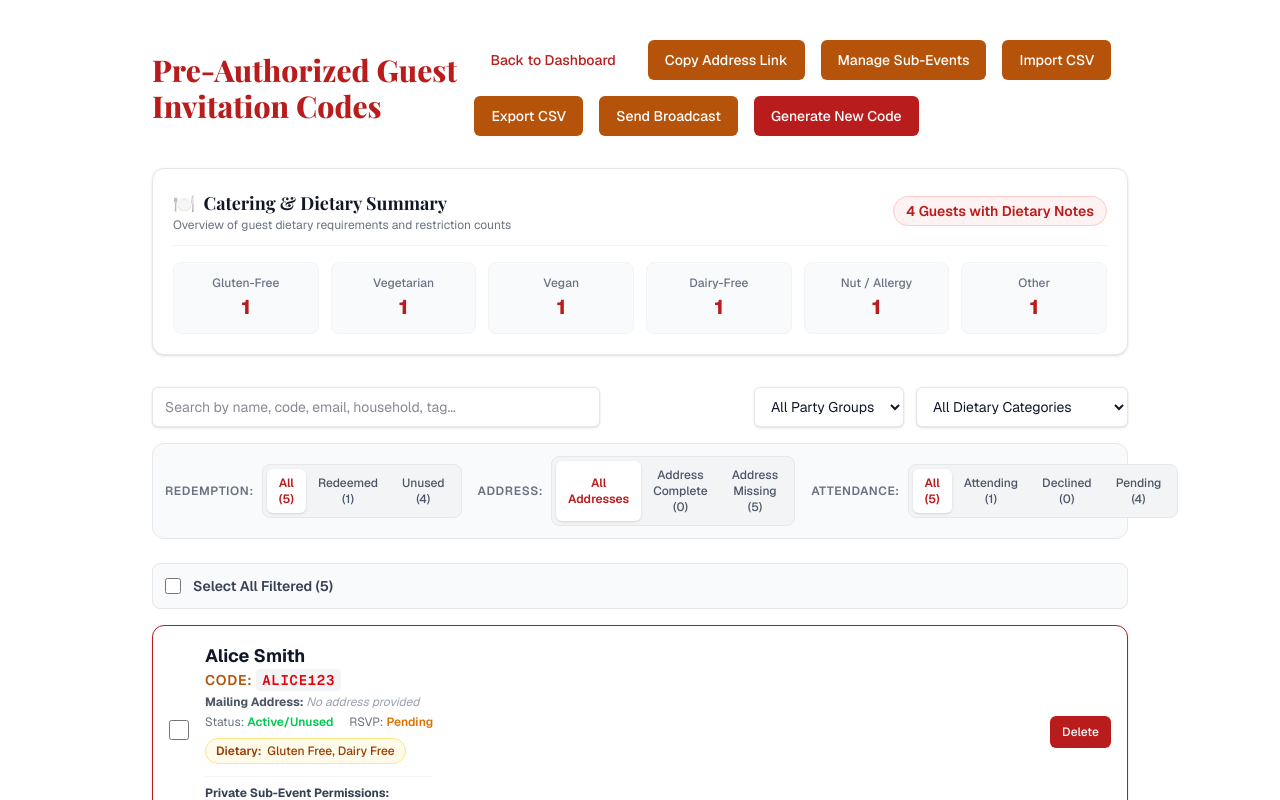
Test case: InvitationCodesDashboardPage › combines text search and status filter tab
// Switch to Unused tab
Click the tab "Unused (4)" at (423, 491), box [390,469,457,513]
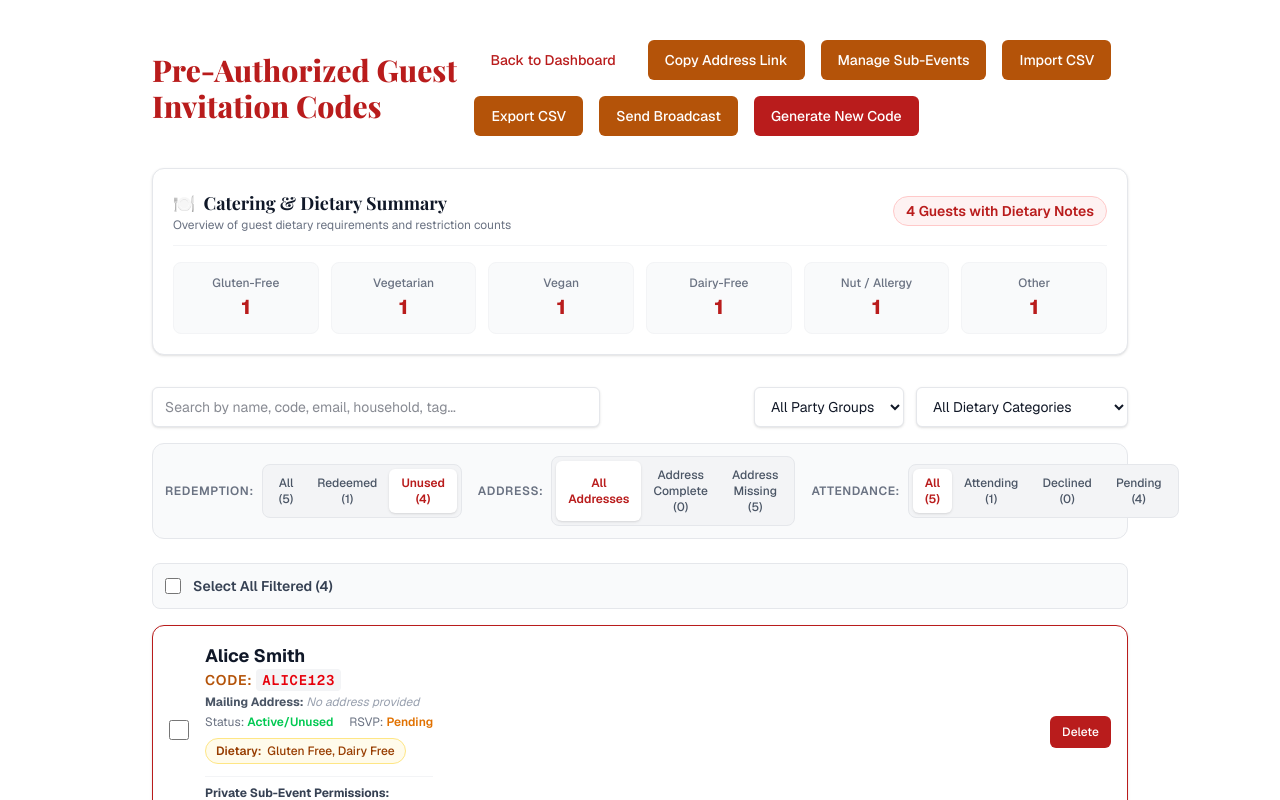
// Search for "Alice" while on Unused tab
Type "Alice" into the field named "Search invitation codes" at (376, 407), box [152,387,600,427]
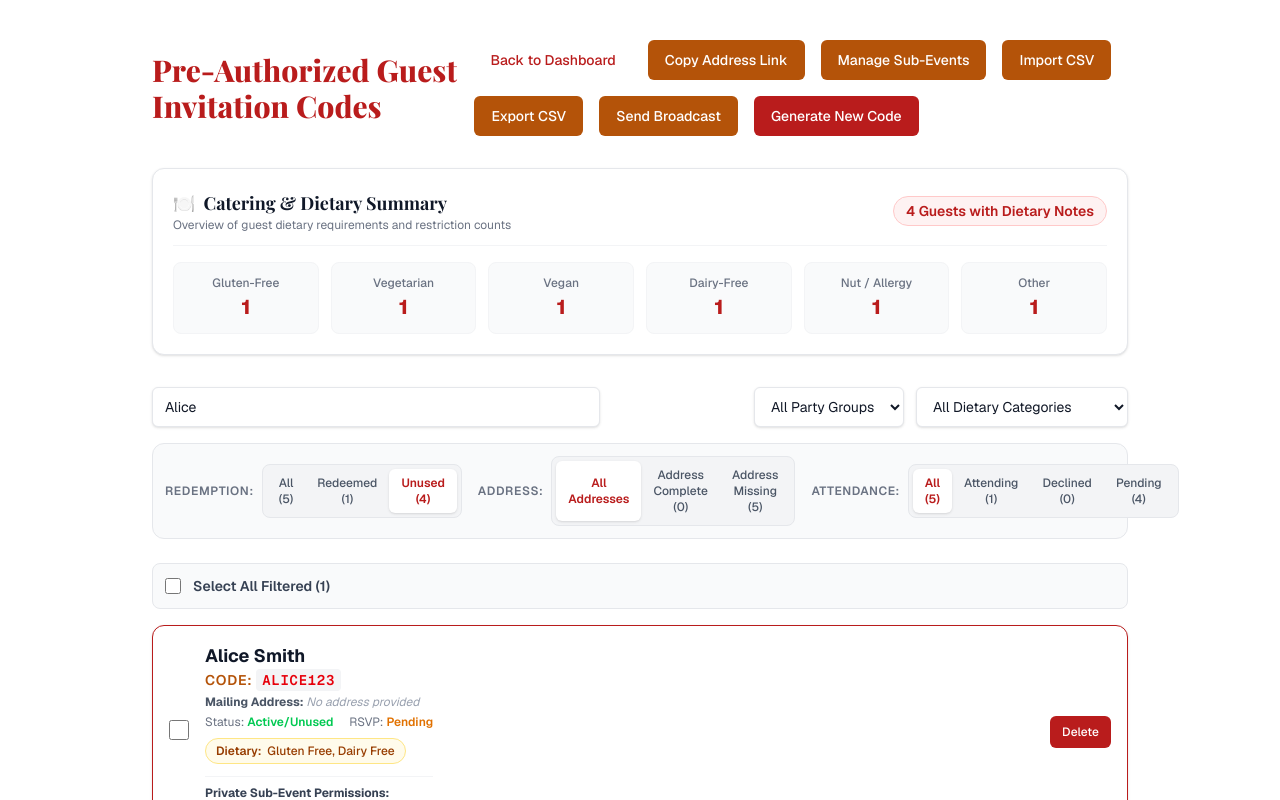
Expected: the text "Alice Smith" is shown, [205,642,305,670]
Replace the text in the field named "Search invitation codes" with "Bob" at (376, 407), box [152,387,600,427]
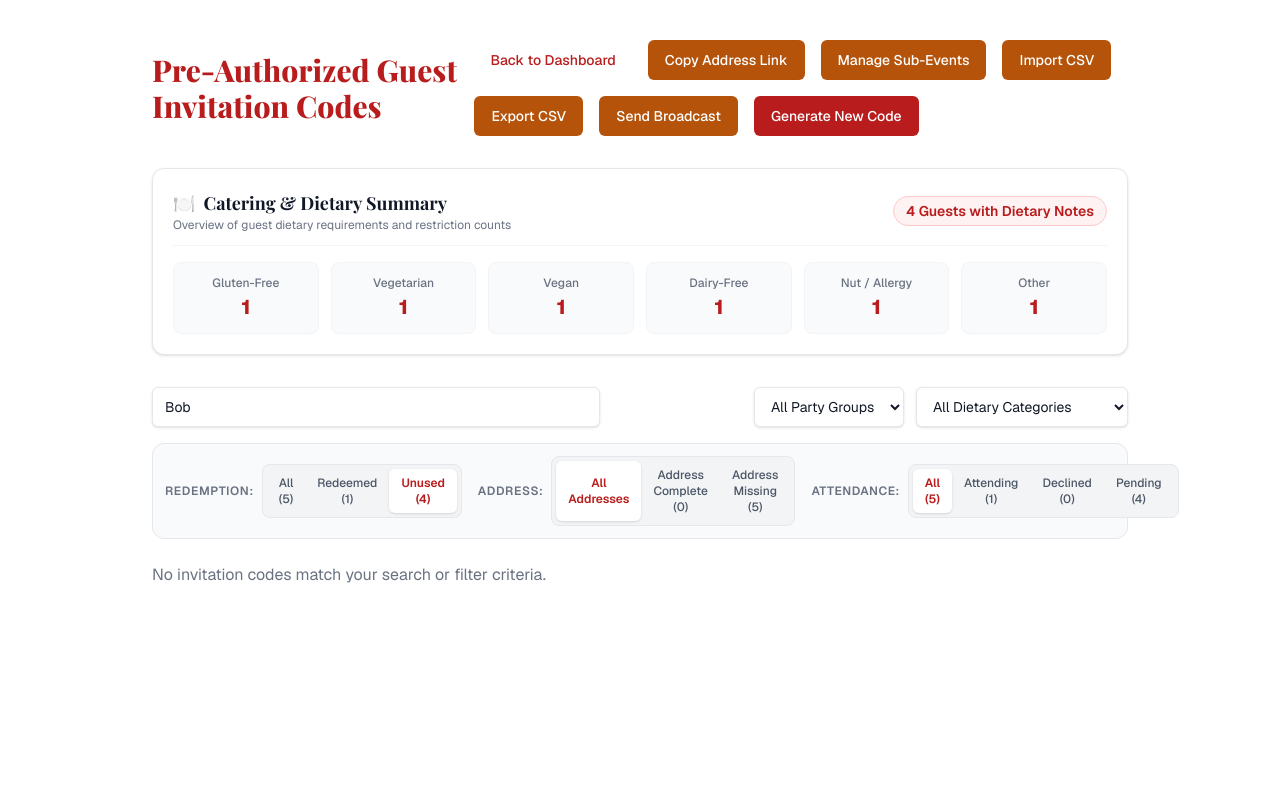
Expected: the text "Alice Smith" is gone
Expected: the text "No invitation codes match your search or filter criteria." is shown, [152,564,546,585]
